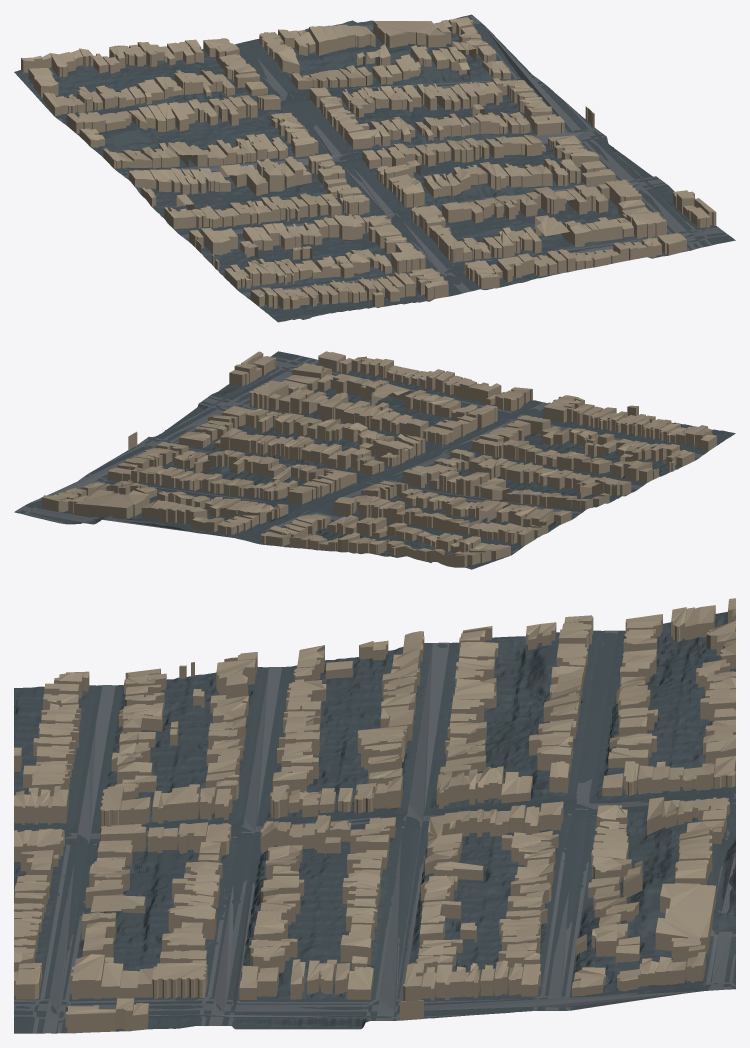
Rendered from epsg26910-1431-10880.lod0.glb.
The picture shows the model from 3 angles, top to bottom: view 1: azimuth 30°, elevation 25°; view 2: azimuth 150°, elevation 25°; view 3: azimuth 270°, elevation 25°; orthographic projection. The views are drawn at different scales.
Parts seen in each view (by area): view 1: epsg26910-1431-10880-lod0; view 2: epsg26910-1431-10880-lod0; view 3: epsg26910-1431-10880-lod0.
Boxes of the visible parts, bbox=[...] form: epsg26910-1431-10880-lod0: bbox=[14, 14, 735, 322]; epsg26910-1431-10880-lod0: bbox=[14, 351, 735, 569]; epsg26910-1431-10880-lod0: bbox=[14, 598, 735, 1033].
Size of the model in its own units: 384 by 79.37 by 384.
